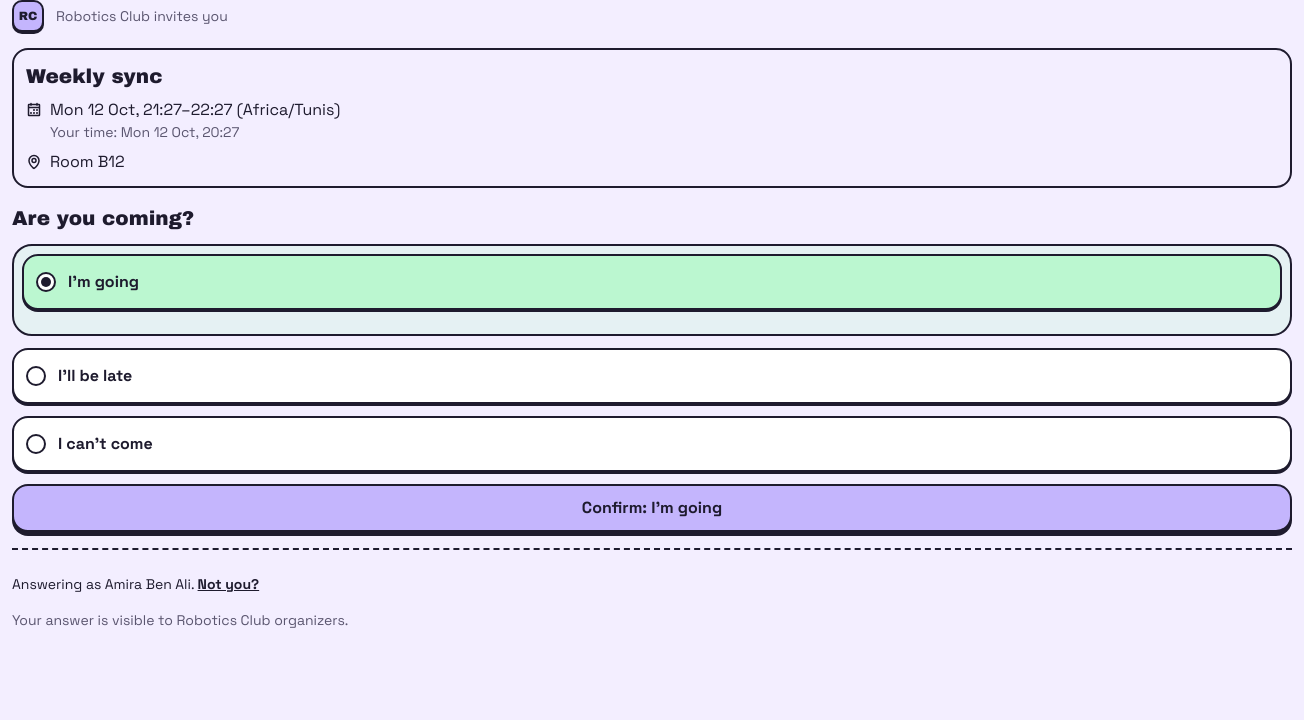
AnswerView › tells an unsubscribed member that no calendar email comes
Click the button "Confirm: I'm going" at (652, 508), box [12,484,1292,532]
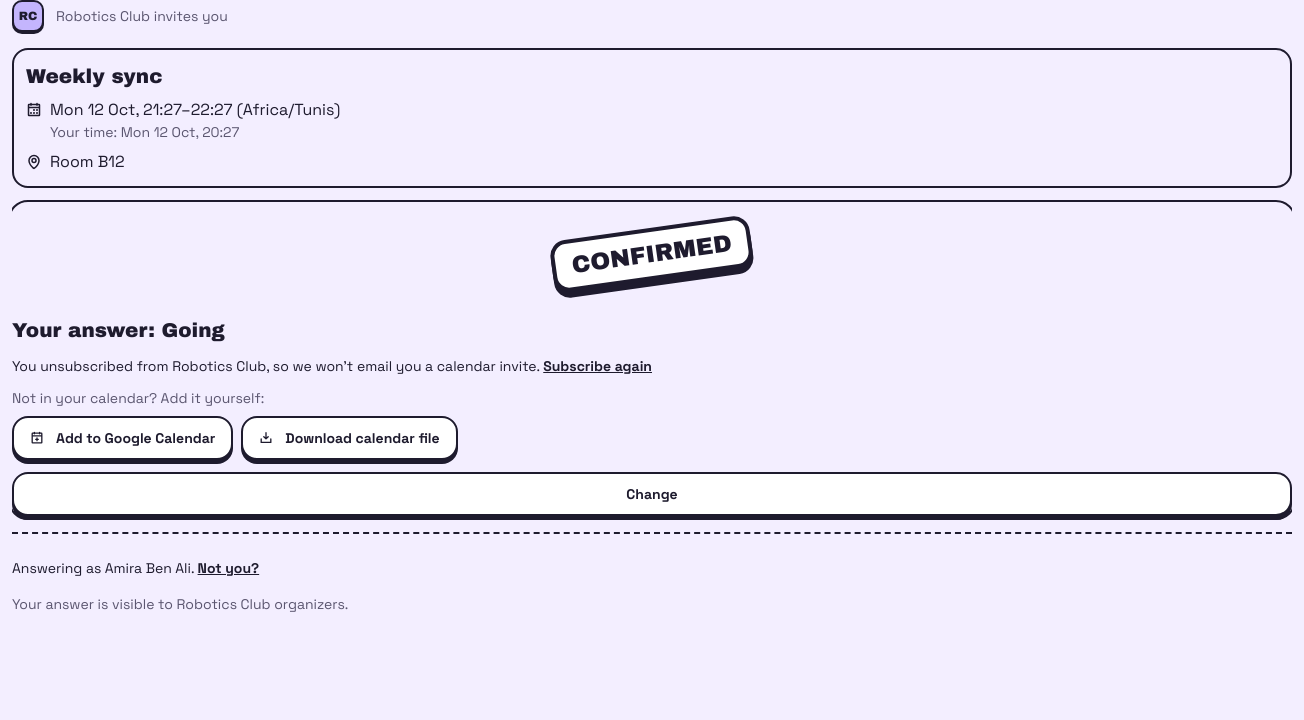
Result: the text "won't email you a calendar invite" is shown at [12,357,540,375]
